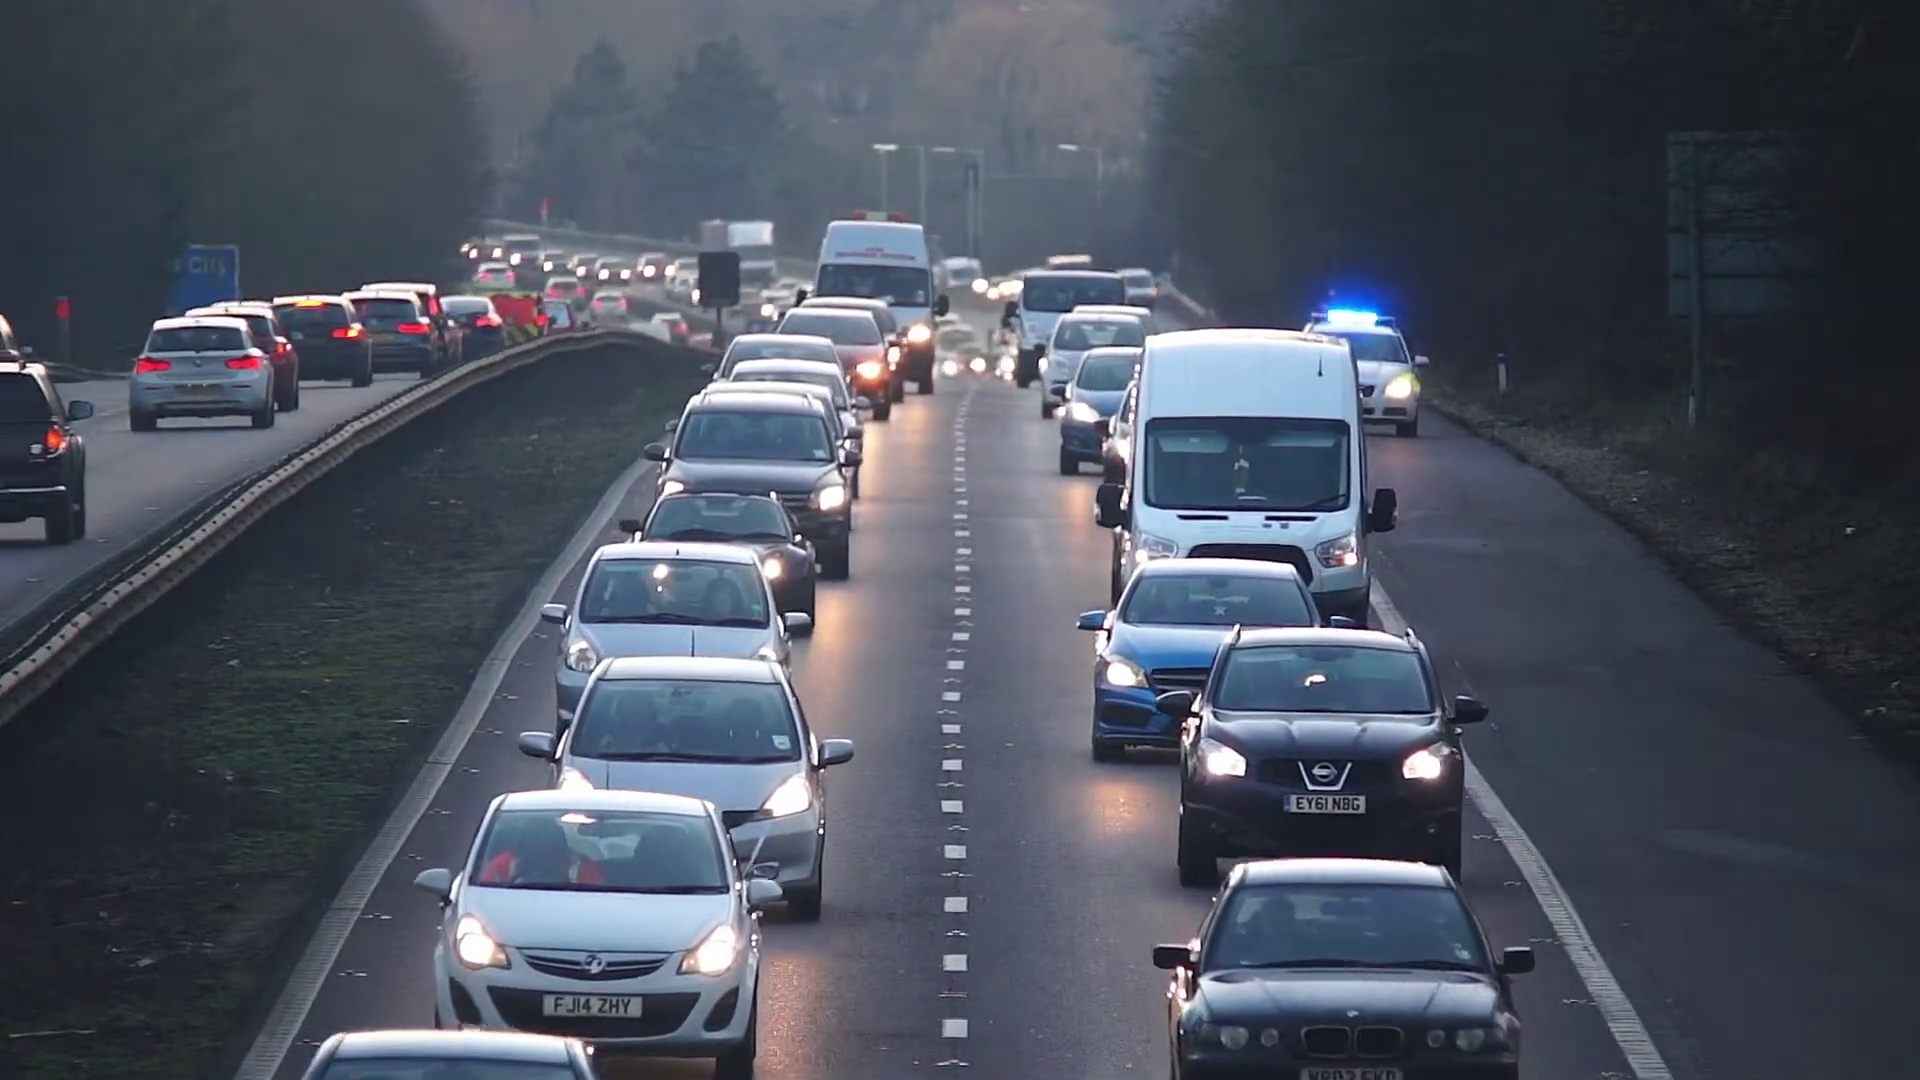license_plate: (528, 994, 644, 1021), (1283, 795, 1369, 818)
